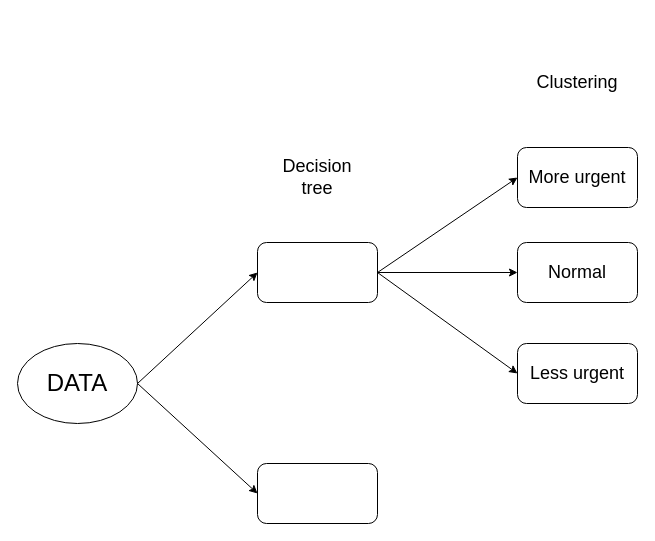
Some shapes in this 655 by 541 pixel diagram are drawn without their labels. The centre of each missing label's shape, as x and y in pixels:
Alive: (x=317, y=493)
DEATH: (x=317, y=272)
